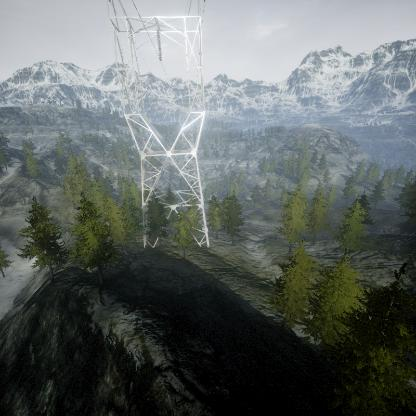tower: (104, 1, 214, 253)
